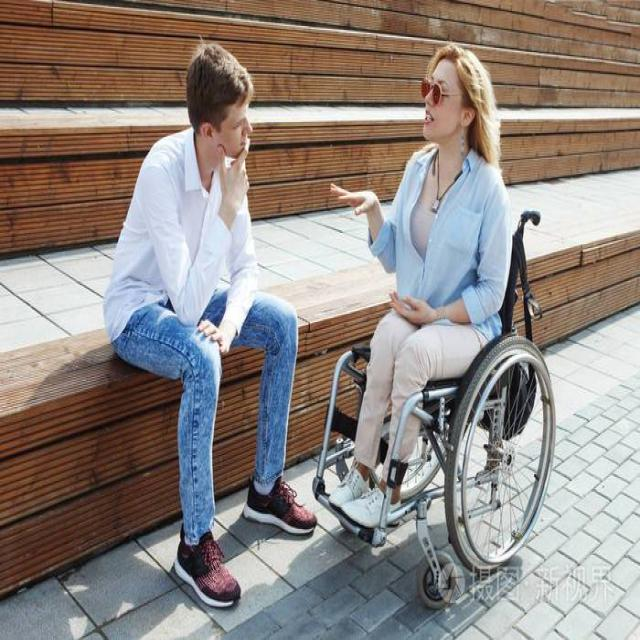wheelchairs: (309, 192, 561, 634)
